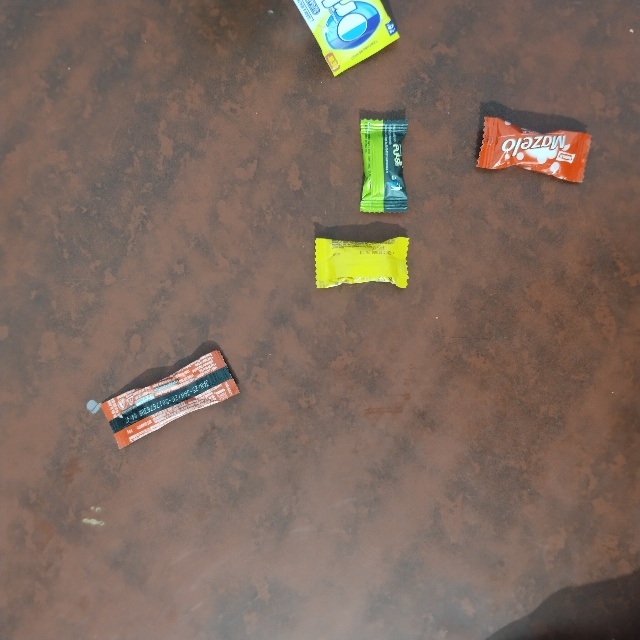Alpenlibe Creamfills: (313, 235, 414, 289)
Mazelo: (486, 110, 596, 171)
Nescafe Coffee: (93, 399, 235, 457)
Pulse: (357, 115, 414, 218)
